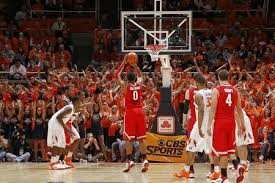basketball: (126, 52, 139, 65)
basketball player: (114, 53, 149, 173), (175, 75, 215, 180), (208, 69, 241, 183), (47, 96, 81, 171)
